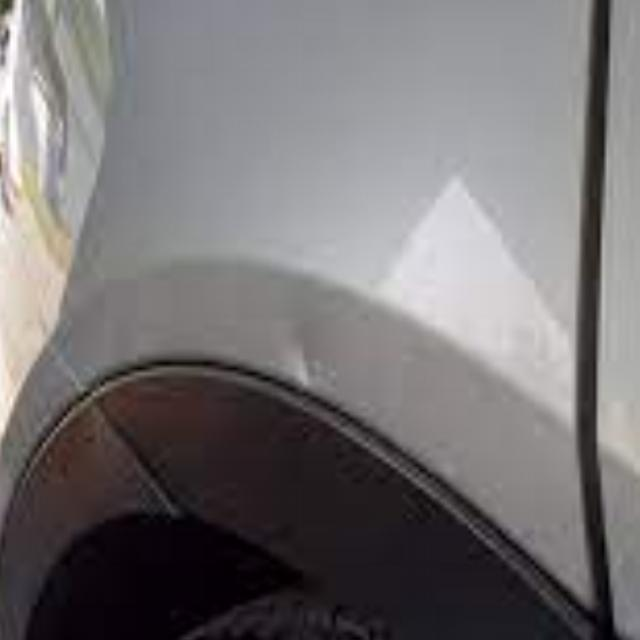dents: (270, 324, 371, 400)
